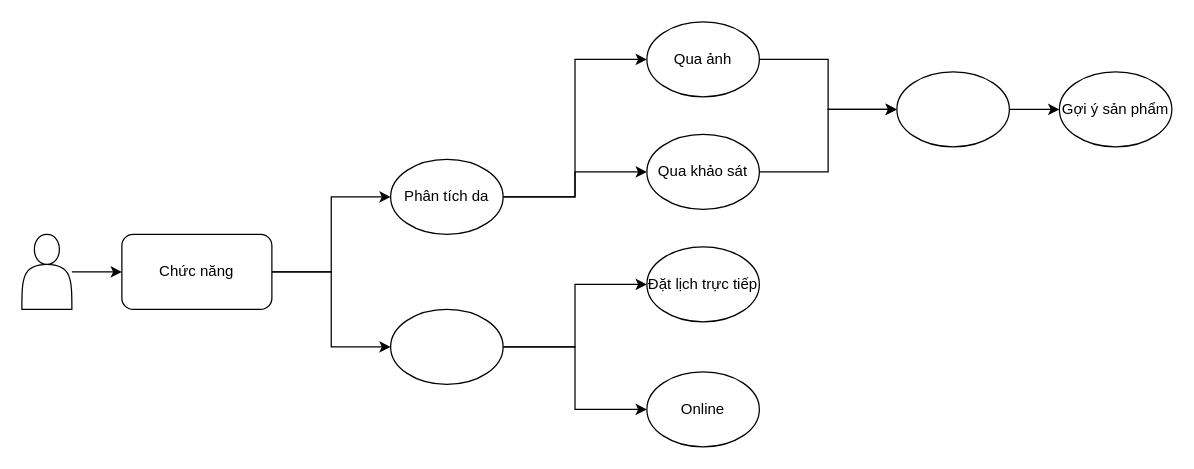
Image size: 1194x469. Some labels were removed from this diagram. Each missing label, with the centre of its shape:
Chuyên gia tư vấn: (x=446, y=346)
Guest: (x=46, y=271)
Gợi ý cách chăm sóc: (x=952, y=109)
